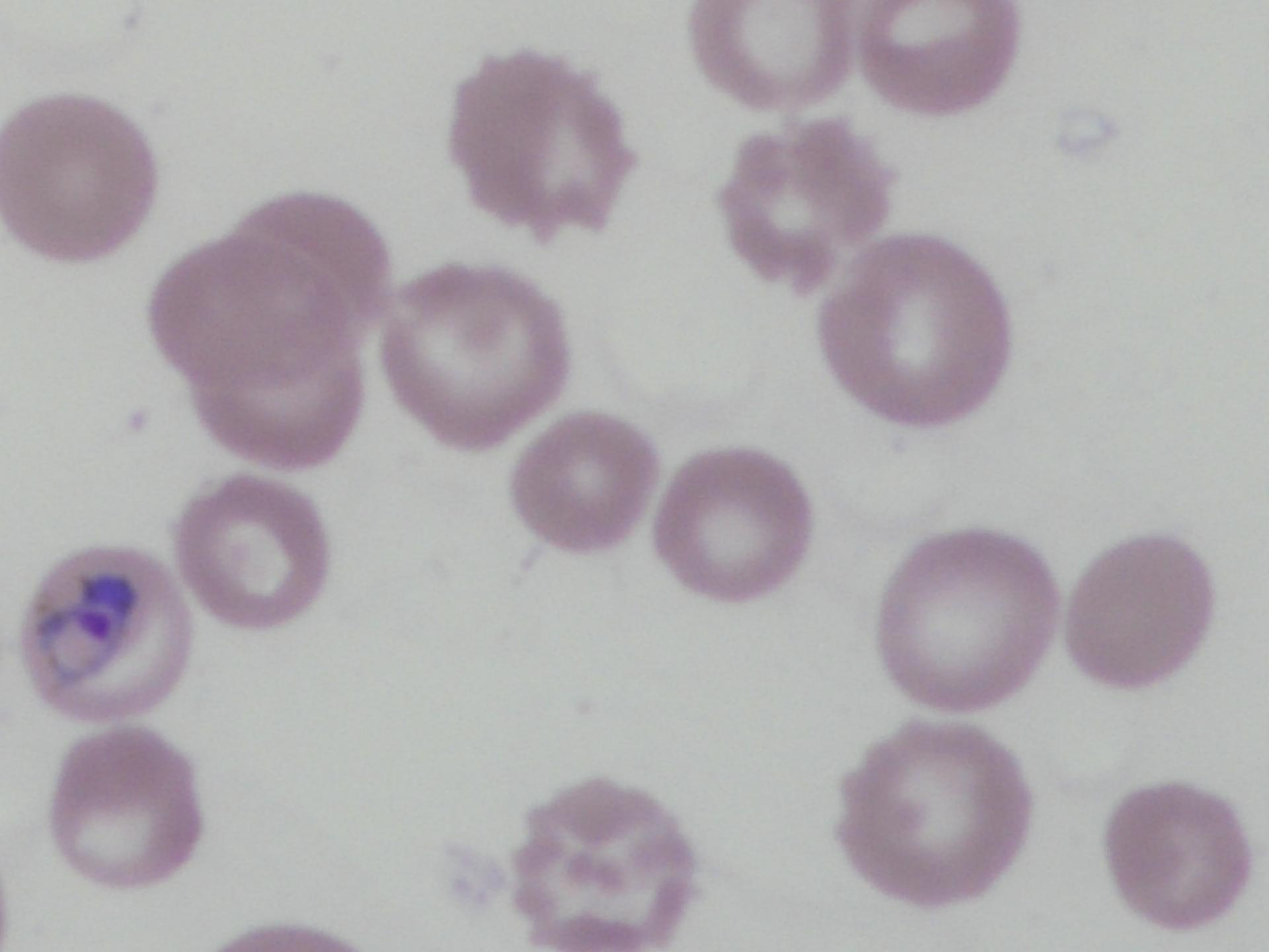Infected: (22, 545, 192, 721)
Uninfected: (150, 207, 387, 462), (828, 234, 1011, 431), (451, 51, 631, 237), (841, 725, 1026, 904), (383, 268, 566, 447), (510, 776, 691, 951), (877, 532, 1054, 708), (721, 122, 888, 287), (1, 93, 158, 258), (48, 730, 200, 887), (176, 477, 330, 627), (1067, 533, 1214, 689), (656, 449, 810, 596), (233, 193, 390, 320), (1105, 784, 1245, 926), (511, 413, 654, 548)
